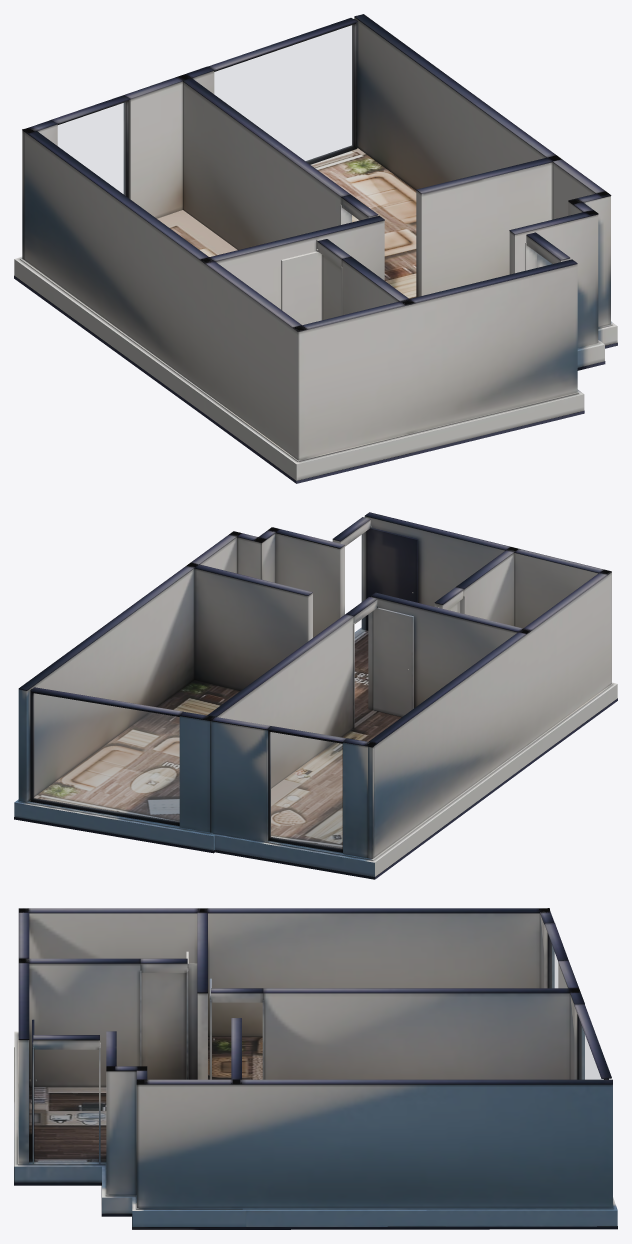
3 renders of one model, top to bottom at view 1: azimuth 30°, elevation 25°; view 2: azimuth 150°, elevation 25°; view 3: azimuth 270°, elevation 25°, orthographic. The views are drawn at different scales.
Visible parts, largest first — view 1: plan, glass1_m, glass0_m; view 2: plan, glass1_m, glass0_m; view 3: plan, glass1_m.
Boxes of the visible parts, x1,y1,x2,y2 form: plan: [14, 14, 617, 483]; glass1_m: [214, 25, 352, 161]; glass0_m: [58, 102, 125, 195]; plan: [14, 512, 617, 879]; glass1_m: [34, 693, 179, 822]; glass0_m: [270, 732, 342, 848]; plan: [14, 908, 617, 1229]; glass1_m: [579, 1020, 603, 1079].
Size of the model in its own units: 7.05 by 2.62 by 9.97.
Materials: 2 (1 with a texture image).
